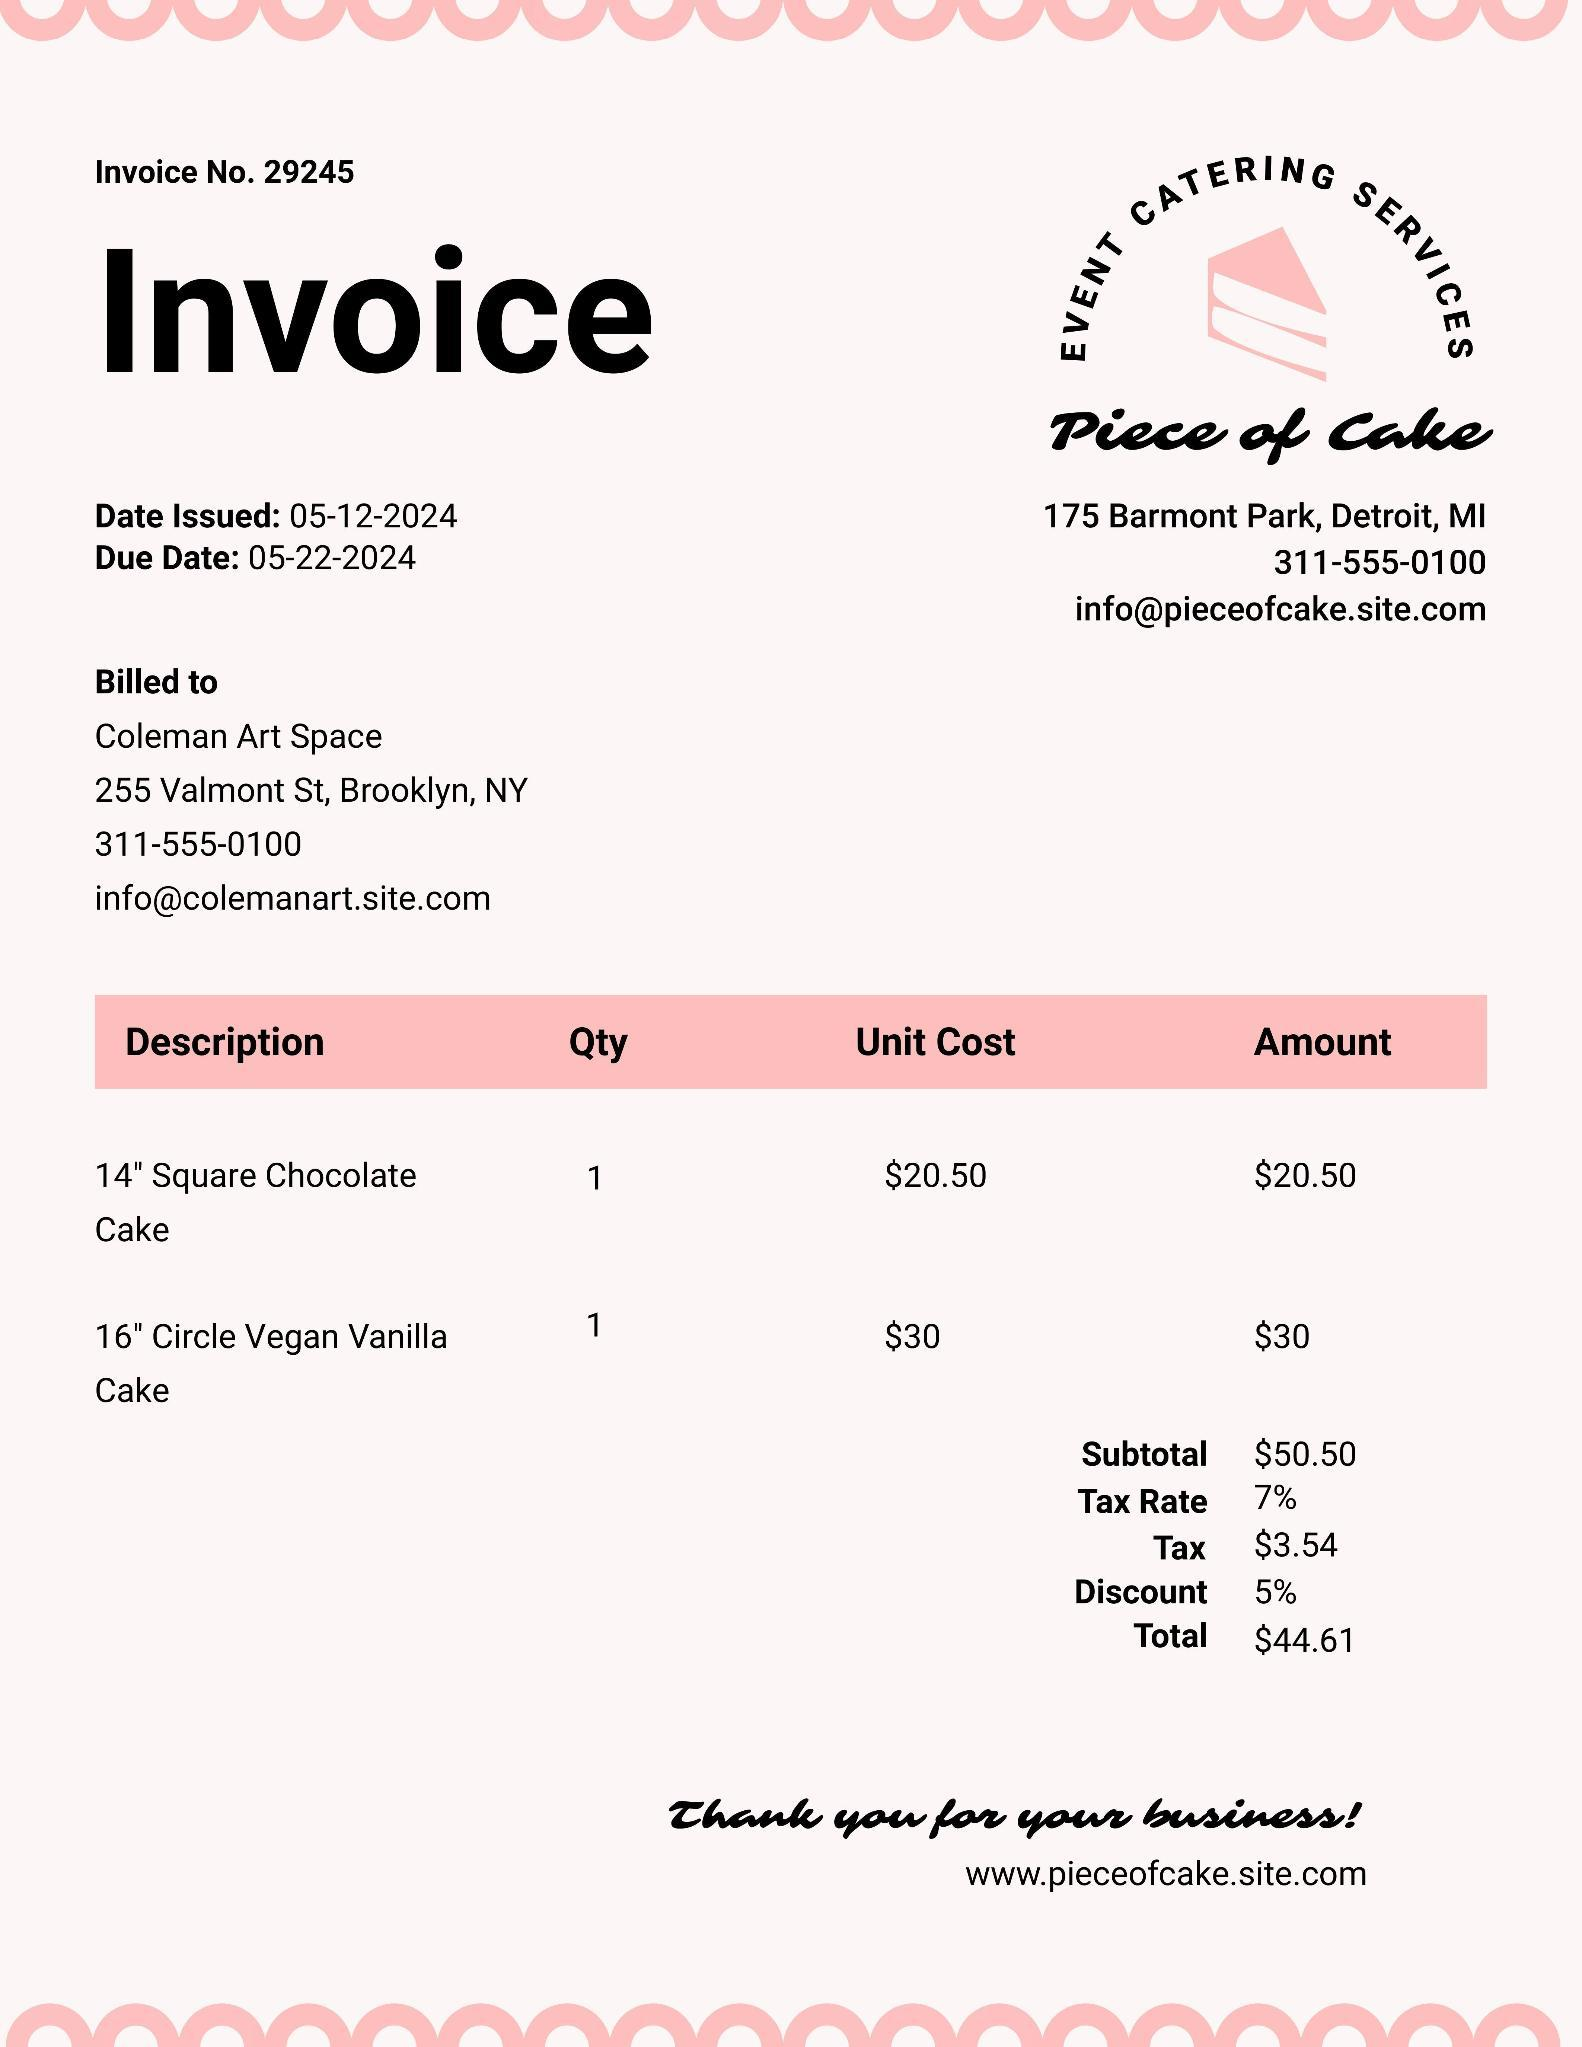ROI: (58, 989, 1467, 1424), (1014, 123, 1524, 676), (66, 650, 557, 952), (631, 1763, 1424, 1947), (75, 218, 678, 414), (1067, 1432, 1383, 1676), (80, 464, 489, 611), (86, 135, 377, 213)
